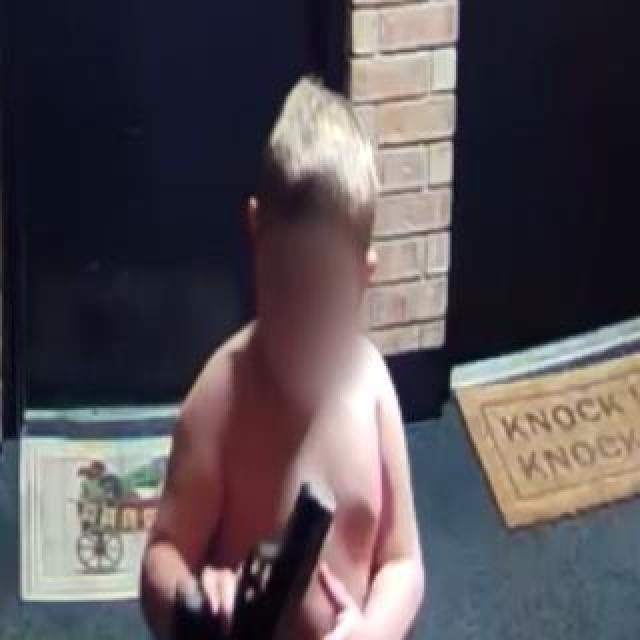Guns: (161, 473, 366, 640)
